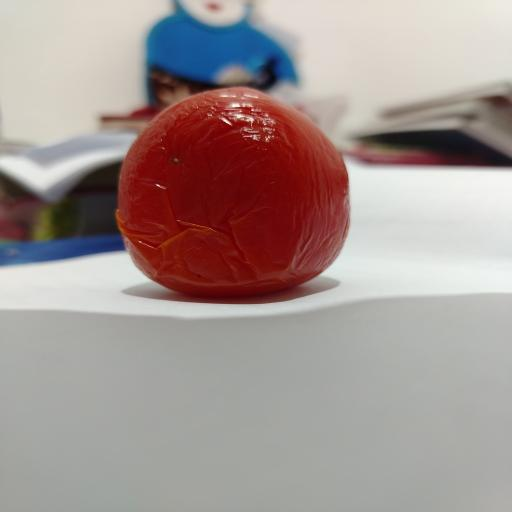spoiled: (117, 87, 350, 296)
